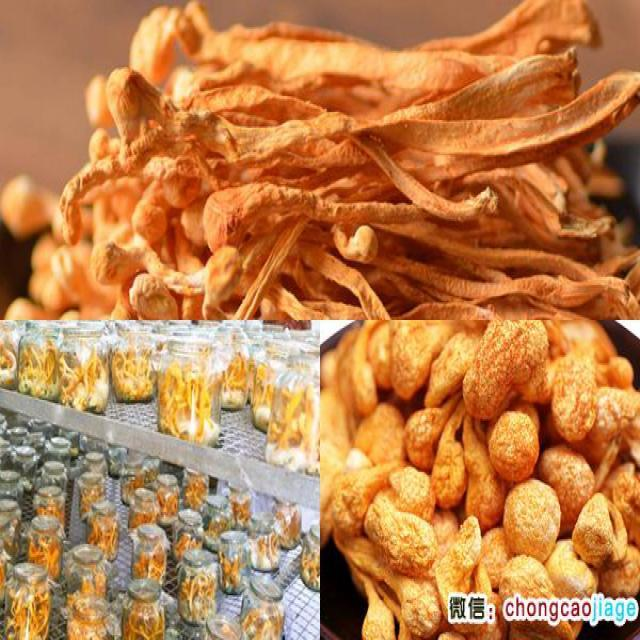Cordyceps militaris: (68, 5, 640, 313), (325, 319, 639, 593), (160, 350, 216, 446), (269, 383, 313, 473), (115, 334, 156, 399), (62, 351, 110, 406), (124, 591, 167, 635), (5, 594, 49, 633), (219, 348, 248, 406), (183, 583, 218, 623), (70, 603, 111, 636), (247, 614, 287, 640), (30, 538, 59, 573), (134, 558, 167, 579), (88, 529, 116, 552)
